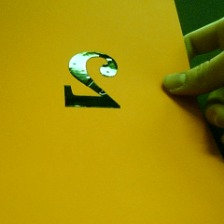orange2: (49, 43, 130, 115)
